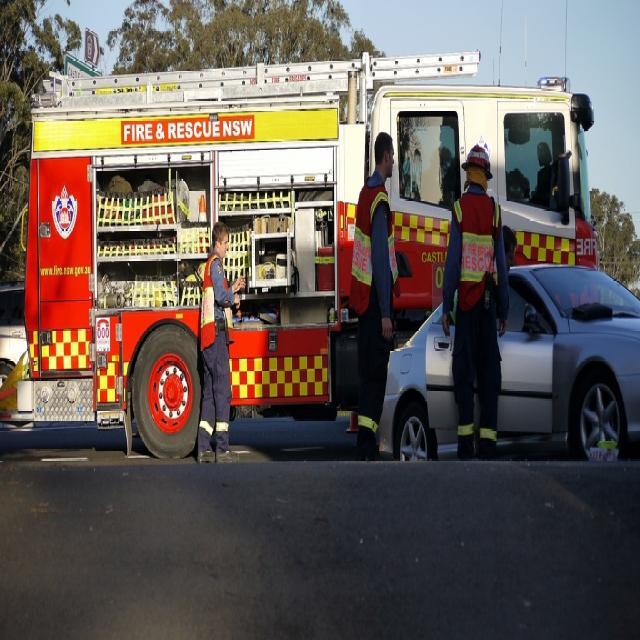Heavy Duty Truck: (13, 55, 598, 462)
Passenger Car: (372, 259, 640, 474)
